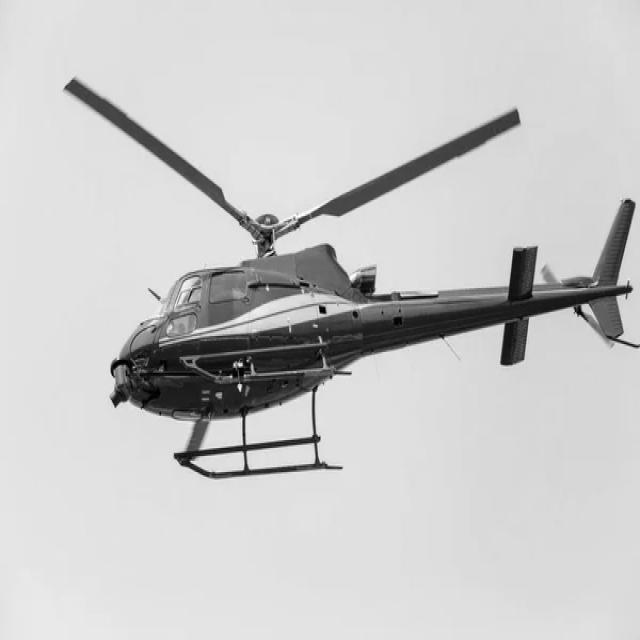Helicopter: (66, 78, 638, 480)
